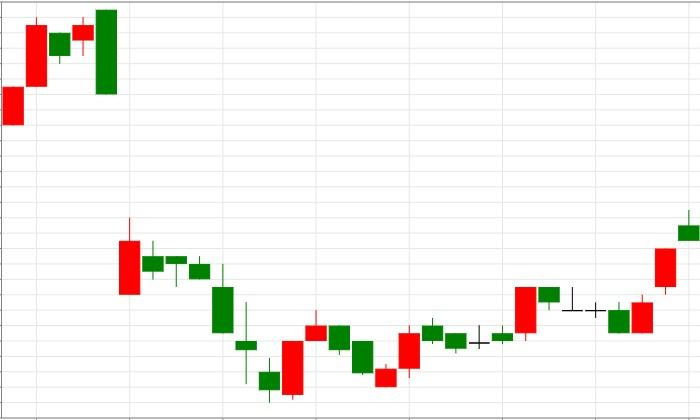bearish_engulfing_fall: (1, 9, 118, 126)
bullish_engulfing_rise: (538, 286, 654, 334)
